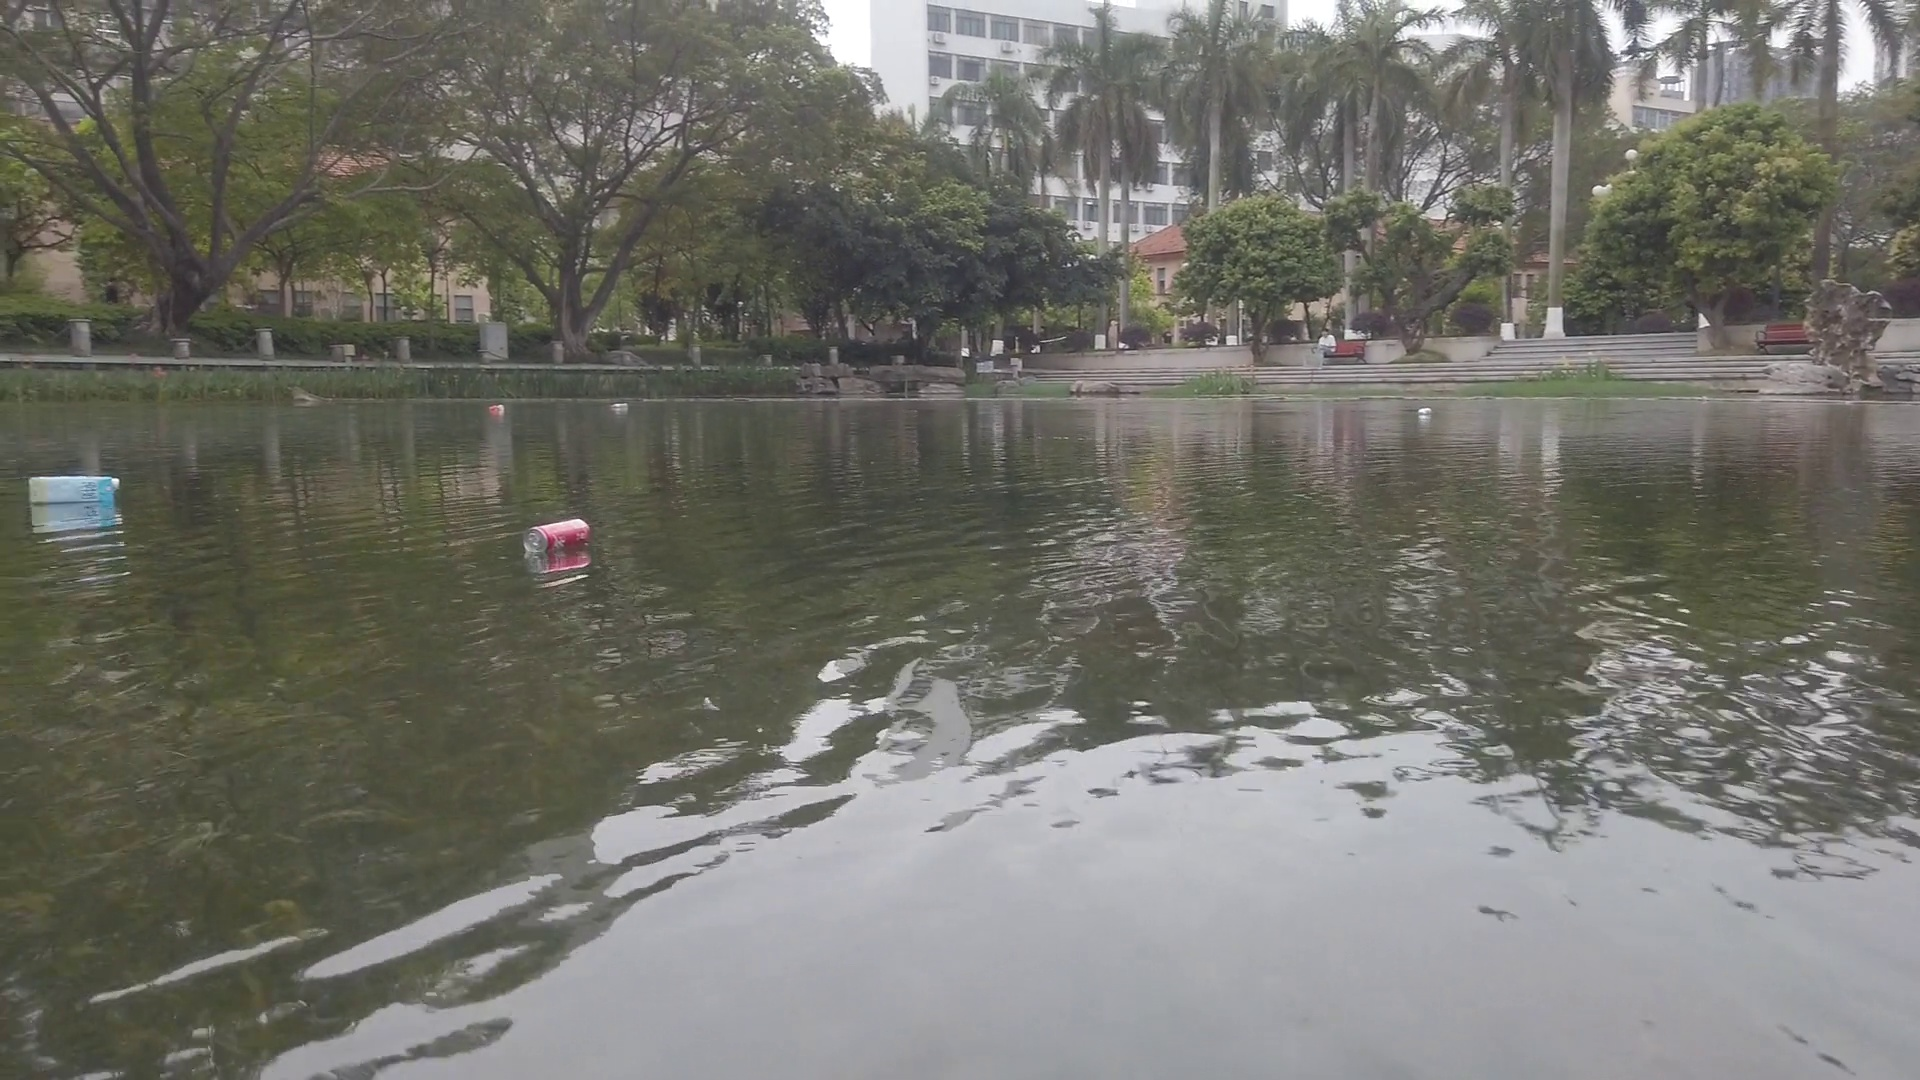bottle: (526, 513, 589, 556), (491, 404, 504, 415), (611, 404, 630, 411), (1419, 407, 1432, 413)
carton: (29, 473, 121, 502)
